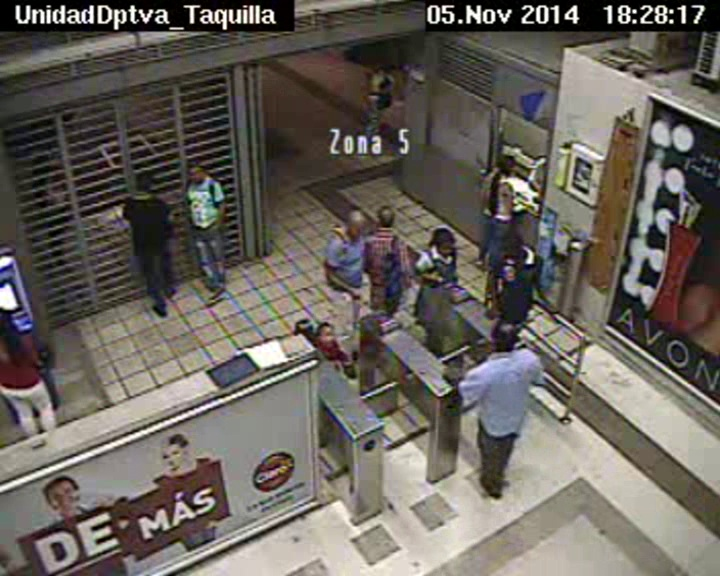person: (341, 205, 370, 239), (427, 225, 456, 258), (491, 320, 520, 349), (497, 230, 526, 259), (131, 169, 159, 199), (372, 203, 397, 233), (492, 149, 517, 177), (186, 159, 210, 186), (313, 322, 338, 347), (1, 305, 22, 334), (371, 56, 388, 74)
